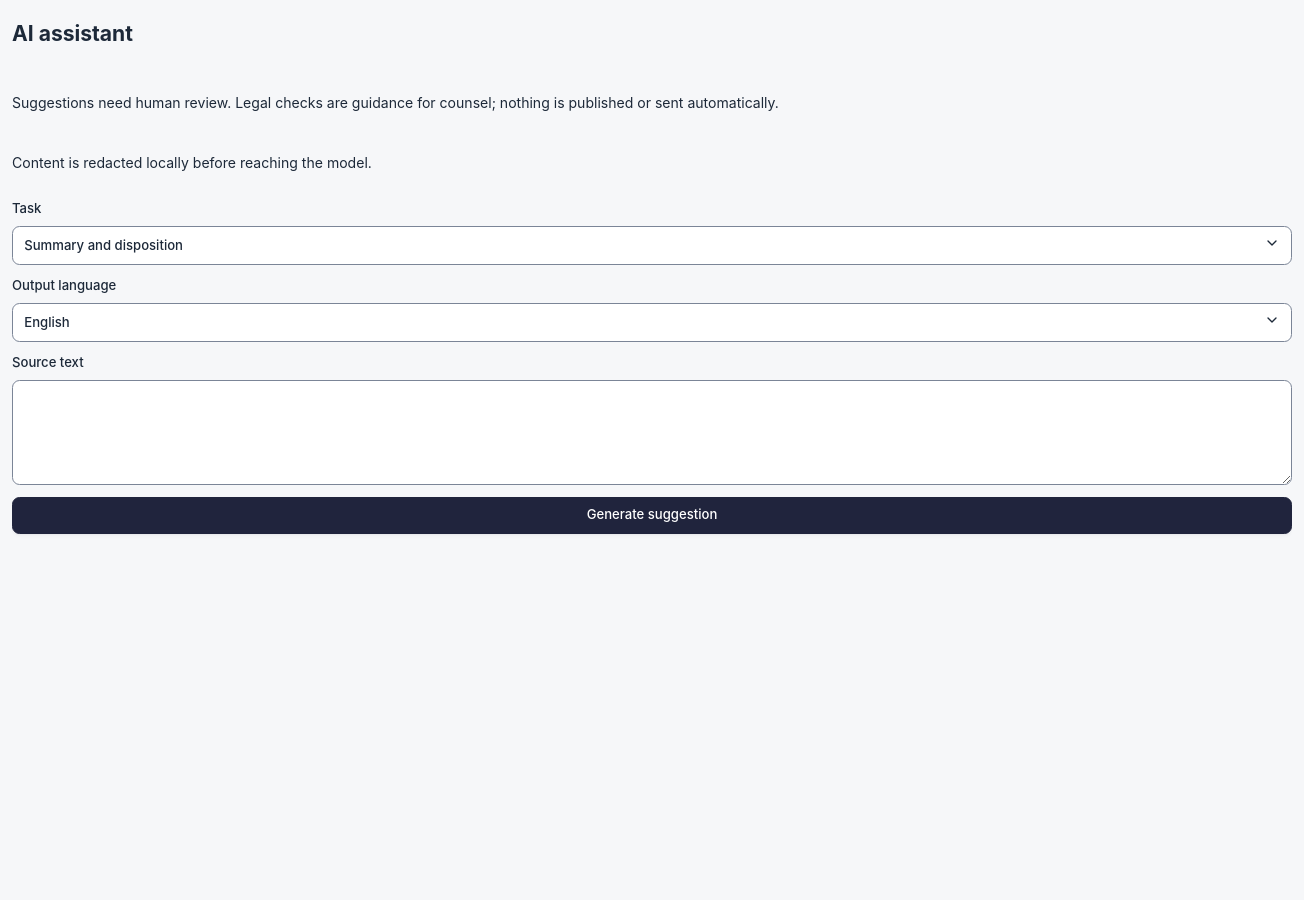
Scenario: applies reviewed wrap-up summaries through the durable preference store
What coordinates should you click on to do the following:
click the button "Generate suggestion"
I would click on:
 (652, 515)
Its box is left=12, top=496, right=1292, bottom=534.
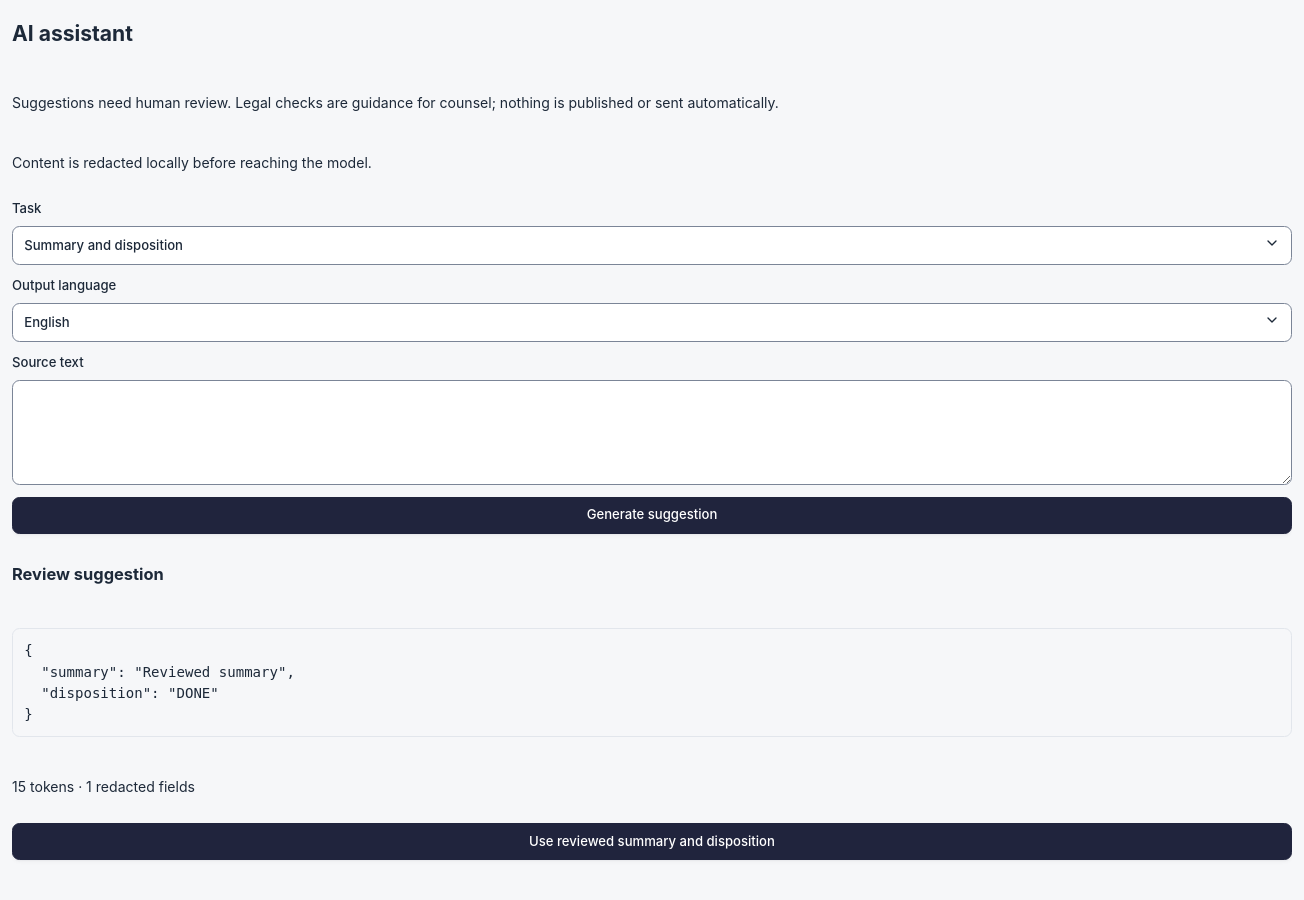
What coordinates should you click on to do the following:
click the button "Use reviewed summary and disposition"
I would click on:
 (652, 842)
Its box is left=12, top=823, right=1292, bottom=860.
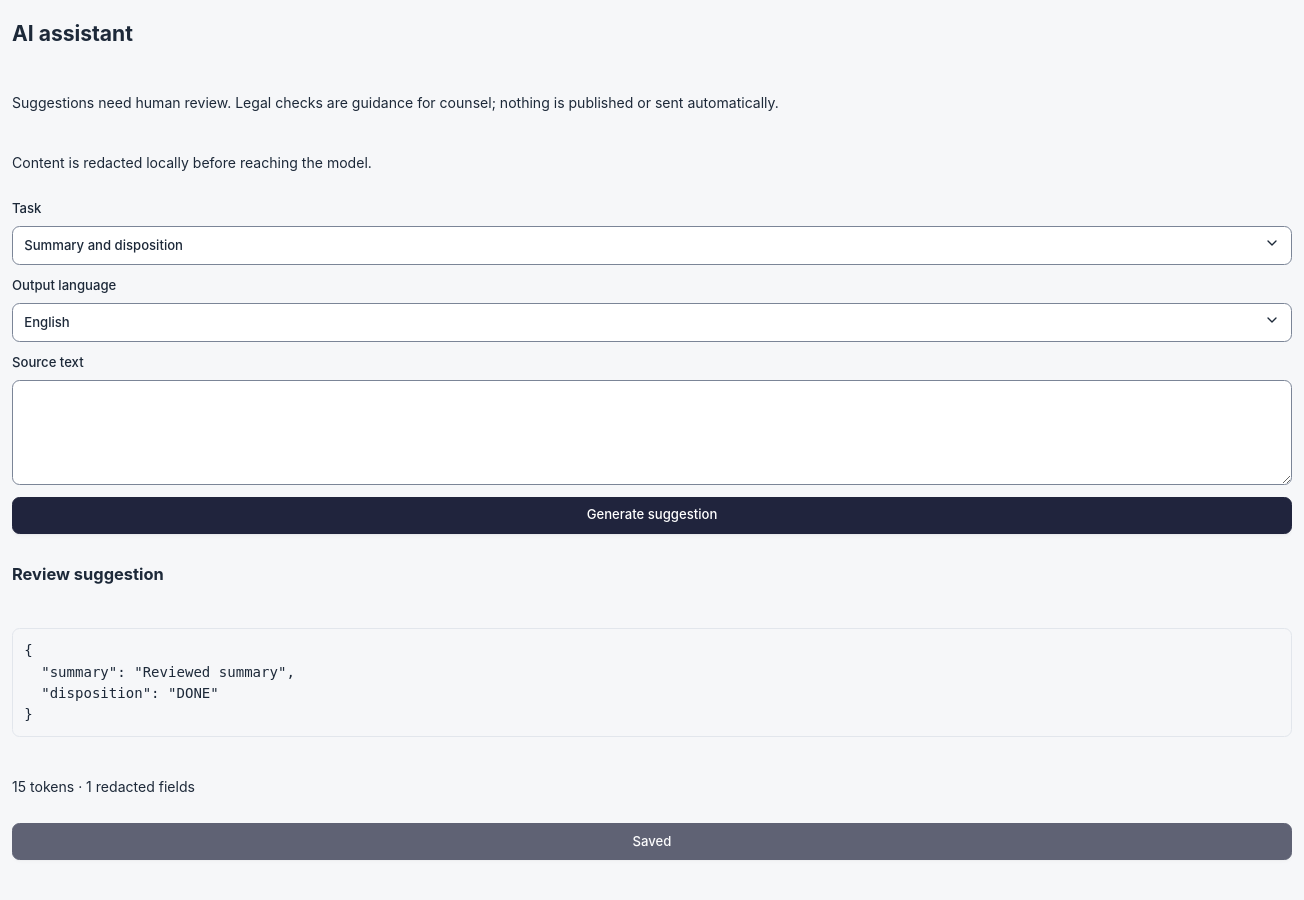
Now the button "Saved" is shown, box left=12, top=823, right=1292, bottom=860
